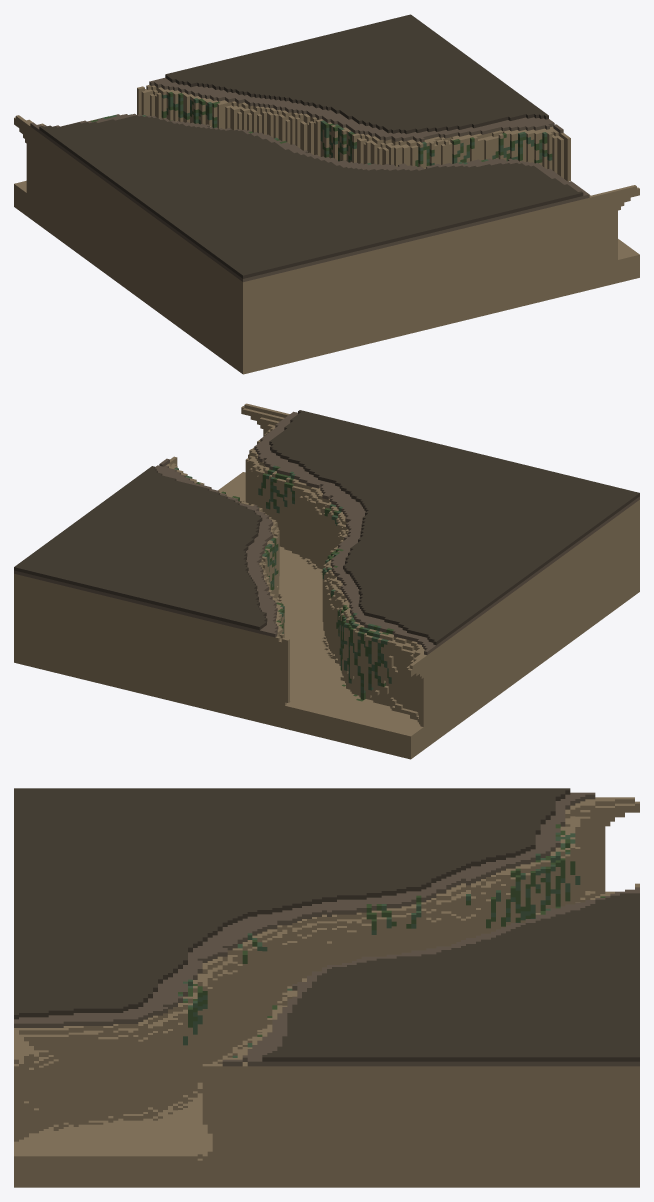
File: Corridor2-5.obj
3 views of the same model, one above another, from view 1: azimuth 30°, elevation 25°; view 2: azimuth 150°, elevation 25°; view 3: azimuth 270°, elevation 25° (orthographic). The views are drawn at different scales.
Size of the model in its own units: 12.6 by 3 by 12.6.
1 material, 1 textured.
